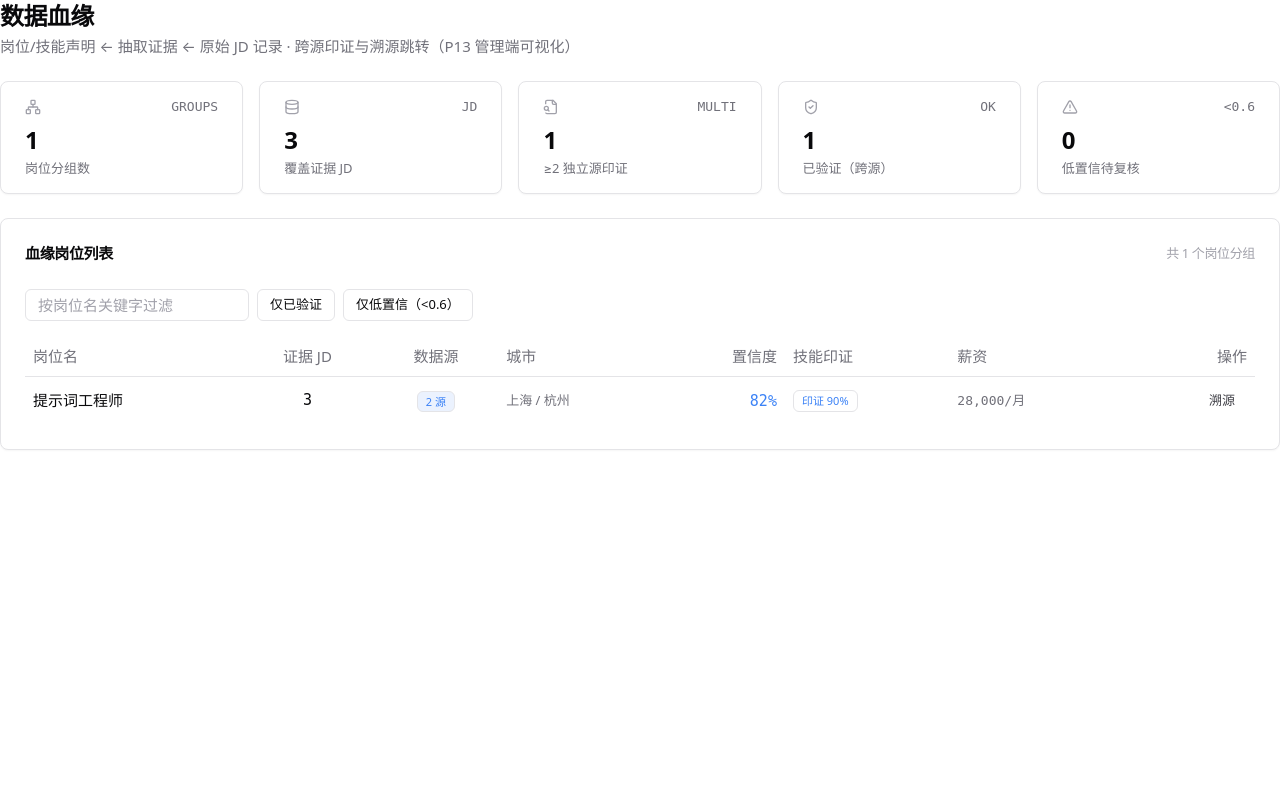
Test: AdminLineagePage 数据血缘 › 详情：点击溯源加载组级校验 + 证据 JD 血缘链
Expected: the text "提示词工程师" is shown, [25, 376, 241, 425]
Click the button "溯源". click: (1222, 401)
box: [1197, 385, 1247, 417]
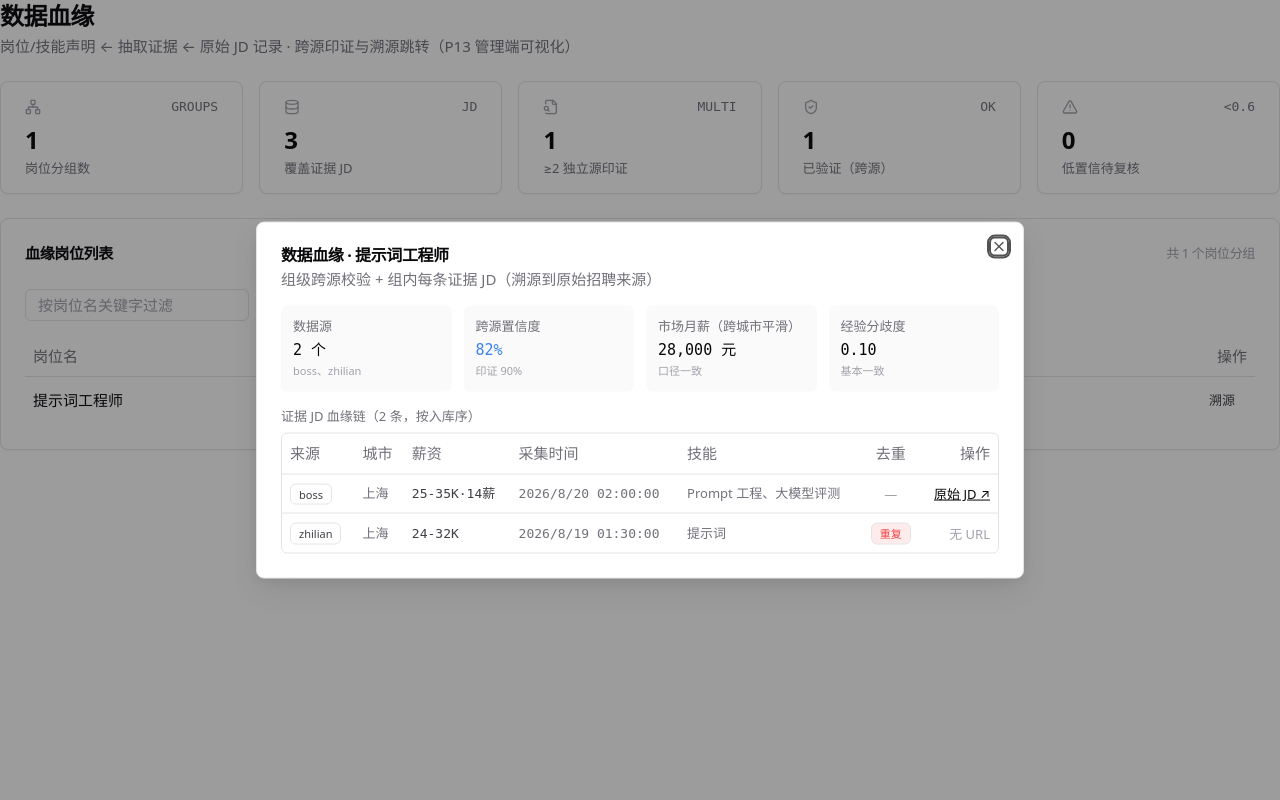
Now the heading "数据血缘 · 提示词工程师" is shown, box [281, 244, 449, 266]
Now the text "25-35K·14薪" is shown, box [404, 474, 511, 513]
Now the text "重复" is shown, box [871, 523, 911, 544]
